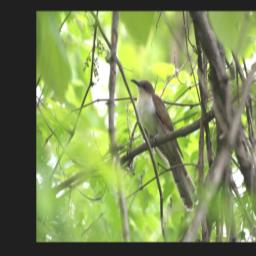Cuckoo: (129, 76, 199, 212)
